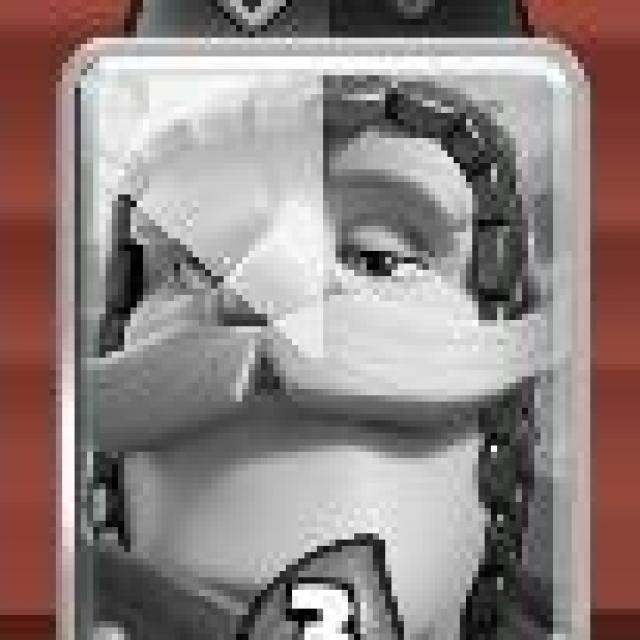Knight: (56, 27, 589, 640)
